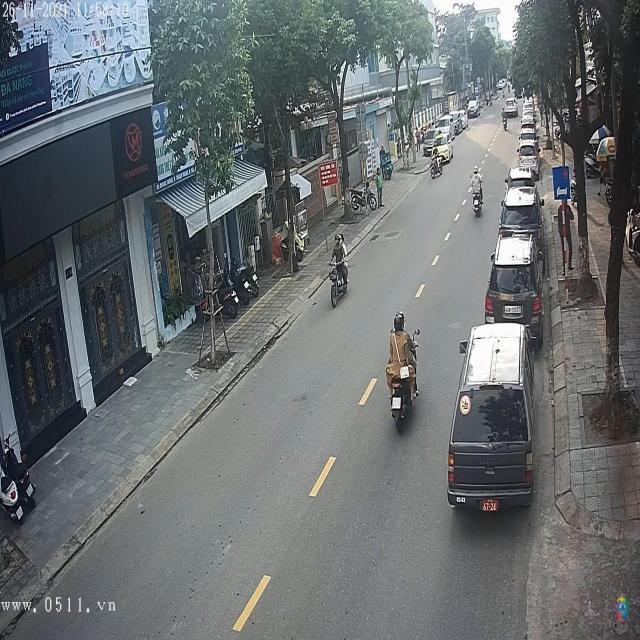car: (449, 324, 535, 512), (485, 245, 542, 348), (499, 188, 543, 238), (468, 99, 481, 118)
motorcycle: (386, 364, 418, 430), (471, 192, 485, 220)
